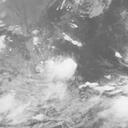cyclone: (42, 55, 77, 85)
